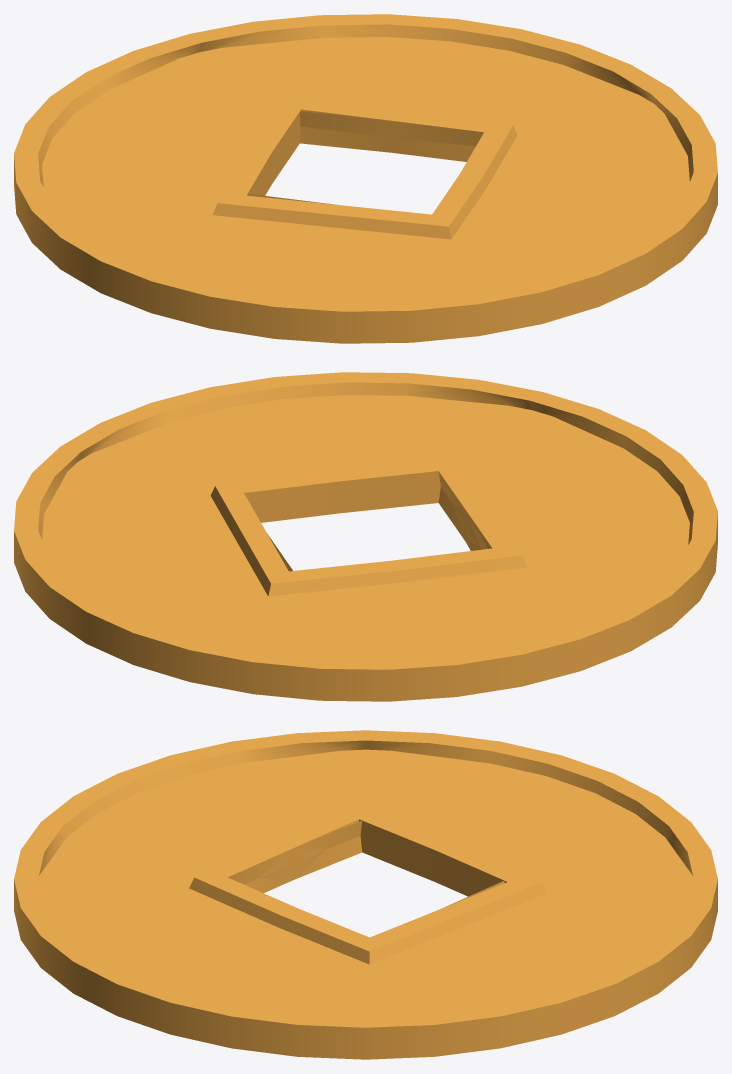
Rendered from chinese coin2.glb.
3 views of the same model, one above another, from view 1: azimuth 30°, elevation 25°; view 2: azimuth 150°, elevation 25°; view 3: azimuth 270°, elevation 25° (orthographic).
Parts seen in each view (by area): view 1: Cylinder; view 2: Cylinder; view 3: Cylinder.
Part boxes in pixels (x1,y1,x2,y2): Cylinder: [14, 14, 717, 343]; Cylinder: [14, 372, 717, 701]; Cylinder: [14, 730, 717, 1059].
Size of the model in its own units: 1 by 0.05 by 1.
